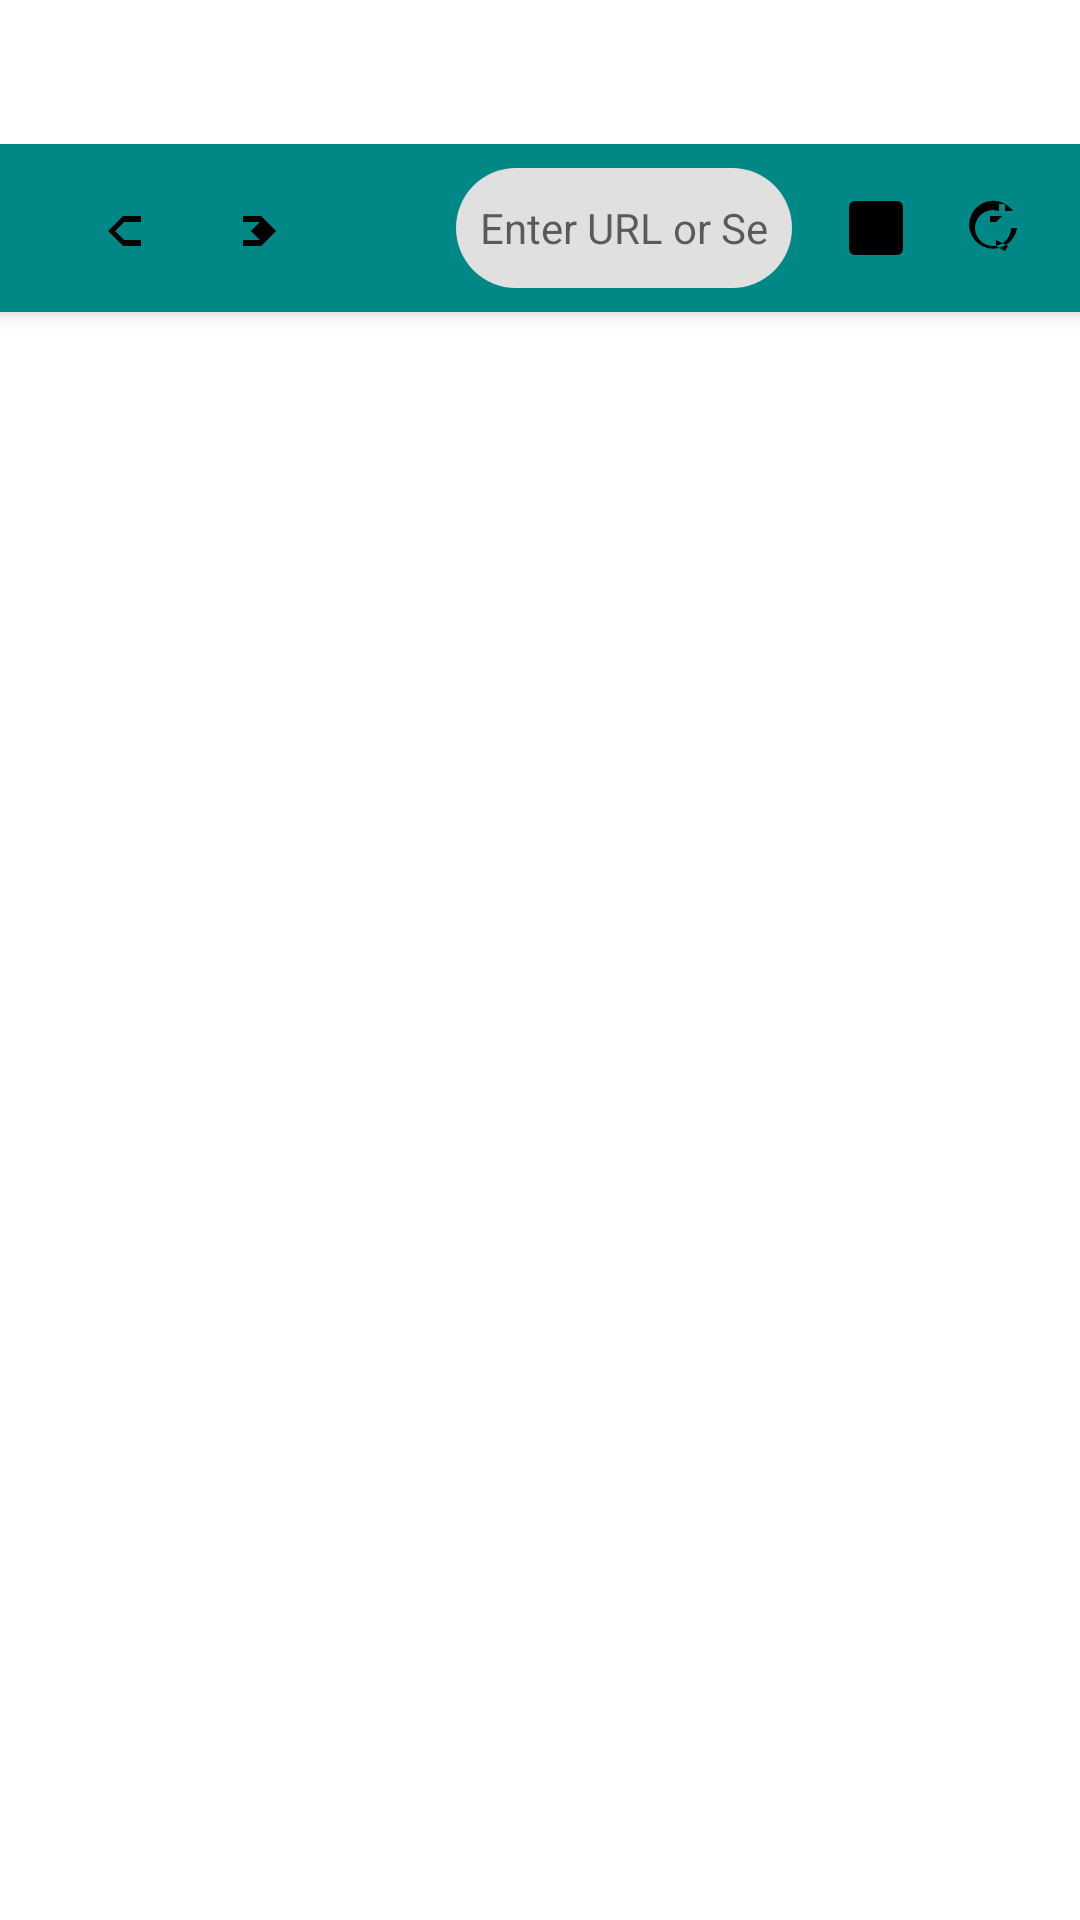

Where to tap for icons on this 1080x1920 app screen, as (x=x, y=y):
Back: (x=124, y=231)
Forward: (x=259, y=231)
Reload: (x=993, y=225)
